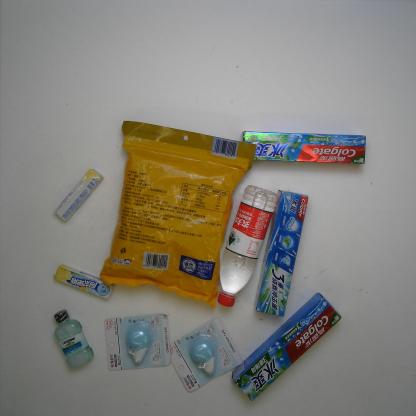Candy: (52, 166, 104, 224), (52, 262, 118, 303)
Dried Food: (98, 118, 259, 310)
Drink: (216, 183, 280, 309)
Personal Hygiene: (230, 290, 346, 405), (252, 188, 310, 319), (239, 128, 368, 166), (51, 307, 96, 371)
Stationery: (165, 314, 247, 394), (102, 309, 174, 374)
